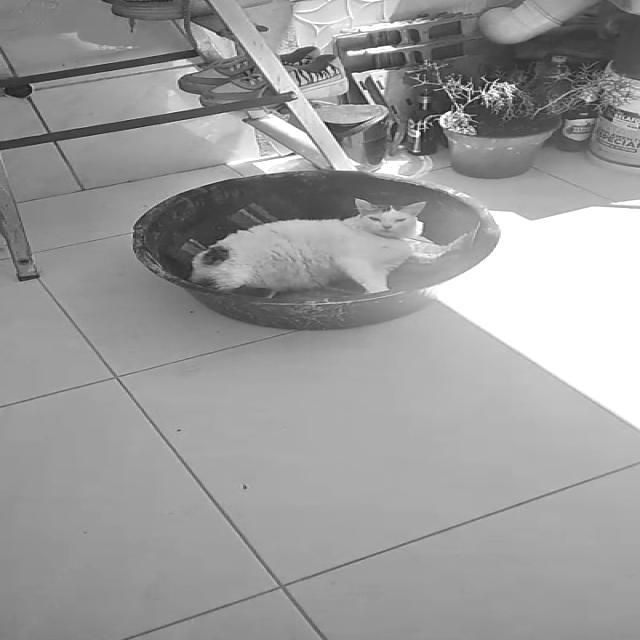Simba: (189, 191, 465, 293)
